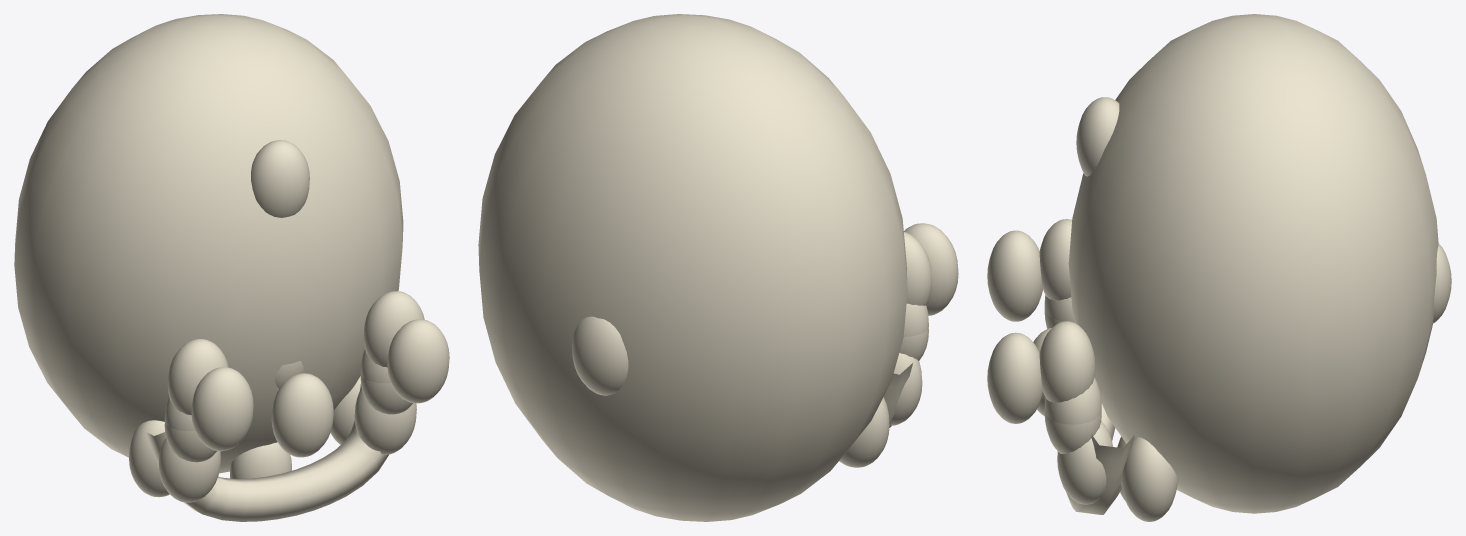
The model's file is skull.glb.
3 views of the same model, side by side, from view 1: azimuth 30°, elevation 25°; view 2: azimuth 150°, elevation 25°; view 3: azimuth 270°, elevation 25° (orthographic). The views are drawn at different scales.
Visible parts, largest first — view 1: skull-73, skull-74, dev-marker-nasal-bone-right, dev-marker-vomer, dev-marker-nasal-bone-left, dev-marker-frontal-bone, dev-marker-lacrimal-left, dev-marker-lacrimal-right, dev-marker-maxilla-right, dev-marker-maxilla-left, dev-marker-palatine-right, dev-marker-mandible (+5 smaller); view 2: skull-73, dev-marker-occipital-bone, dev-marker-nasal-bone-right, dev-marker-palatine-right, dev-marker-lacrimal-right, dev-marker-maxilla-right, dev-marker-zygomatic-right, skull-74, dev-marker-inferior-nasal-concha-right; view 3: skull-73, dev-marker-nasal-bone-right, dev-marker-nasal-bone-left, dev-marker-lacrimal-left, dev-marker-palatine-left, dev-marker-maxilla-left, dev-marker-frontal-bone, dev-marker-lacrimal-right, skull-74, dev-marker-zygomatic-left, dev-marker-inferior-nasal-concha-left, dev-marker-occipital-bone (+1 smaller).
Part boxes in pixels (<box>): skull-73: <box>14,14,403,473</box>; skull-74: <box>144,384,389,521</box>; dev-marker-nasal-bone-right: <box>191,367,253,451</box>; dev-marker-vomer: <box>271,373,333,457</box>; dev-marker-nasal-bone-left: <box>387,319,449,403</box>; dev-marker-frontal-bone: <box>251,140,309,217</box>; dev-marker-lacrimal-left: <box>363,291,424,367</box>; dev-marker-lacrimal-right: <box>167,339,228,415</box>; dev-marker-maxilla-right: <box>158,438,220,502</box>; dev-marker-maxilla-left: <box>354,388,416,454</box>; dev-marker-palatine-right: <box>129,420,169,497</box>; dev-marker-mandible: <box>230,442,291,478</box>; skull-73: <box>478,14,907,521</box>; dev-marker-occipital-bone: <box>572,316,628,395</box>; dev-marker-nasal-bone-right: <box>903,223,958,315</box>; dev-marker-palatine-right: <box>839,397,889,467</box>; dev-marker-lacrimal-right: <box>904,232,932,305</box>; dev-marker-maxilla-right: <box>890,353,922,425</box>; dev-marker-zygomatic-right: <box>903,303,928,336</box>; skull-74: <box>883,363,912,427</box>; dev-marker-inferior-nasal-concha-right: <box>899,328,928,360</box>; skull-73: <box>1068,14,1438,513</box>; dev-marker-nasal-bone-right: <box>987,230,1042,321</box>; dev-marker-nasal-bone-left: <box>987,332,1042,423</box>; dev-marker-lacrimal-left: <box>1039,321,1095,402</box>; dev-marker-palatine-left: <box>1121,437,1177,521</box>; dev-marker-maxilla-left: <box>1057,421,1112,504</box>; dev-marker-frontal-bone: <box>1076,97,1119,176</box>; dev-marker-lacrimal-right: <box>1039,219,1071,300</box>; skull-74: <box>1066,403,1134,514</box>; dev-marker-zygomatic-left: <box>1044,377,1101,424</box>; dev-marker-inferior-nasal-concha-left: <box>1044,410,1101,453</box>; dev-marker-occipital-bone: <box>1432,243,1451,323</box>.
Bounding box in the file's own units: 0.684 × 0.828 × 0.73.
